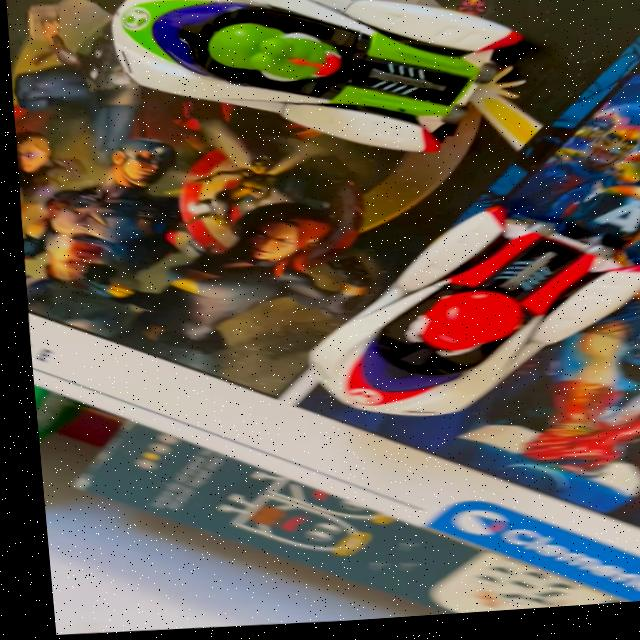mario: (249, 181, 640, 440)
yoshi: (79, 0, 589, 198)
